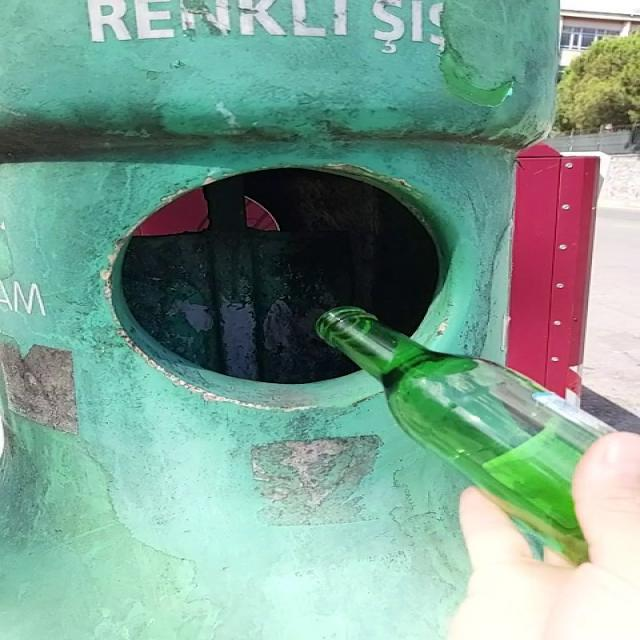glass: (317, 307, 613, 564)
